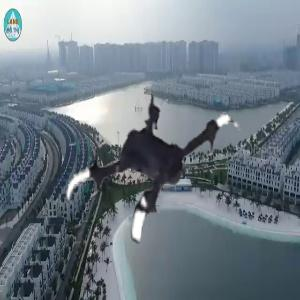drone: (59, 80, 251, 272)
